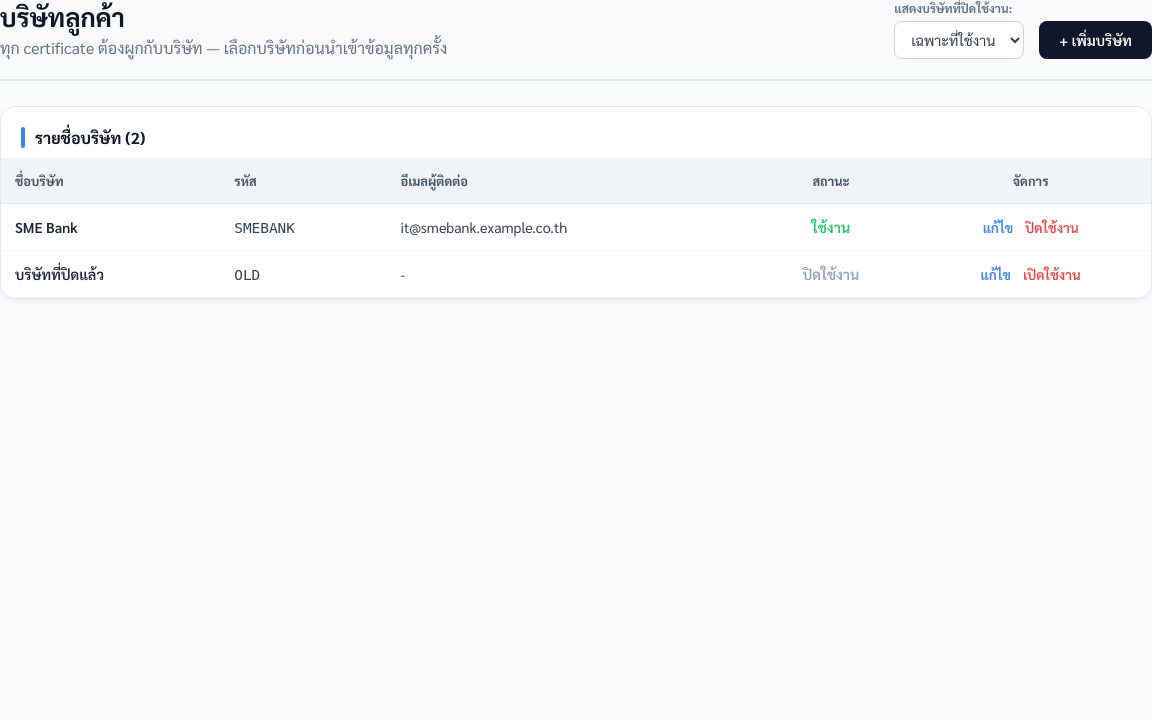
Test: CompaniesPage › รหัสซ้ำ → แสดงข้อความจาก api บนฟอร์ม (ไม่ปิดฟอร์มทิ้ง)
Click the button "+ เพิ่มบริษัท" at (1096, 40), box x1=1039 y1=21 x2=1151 y2=59
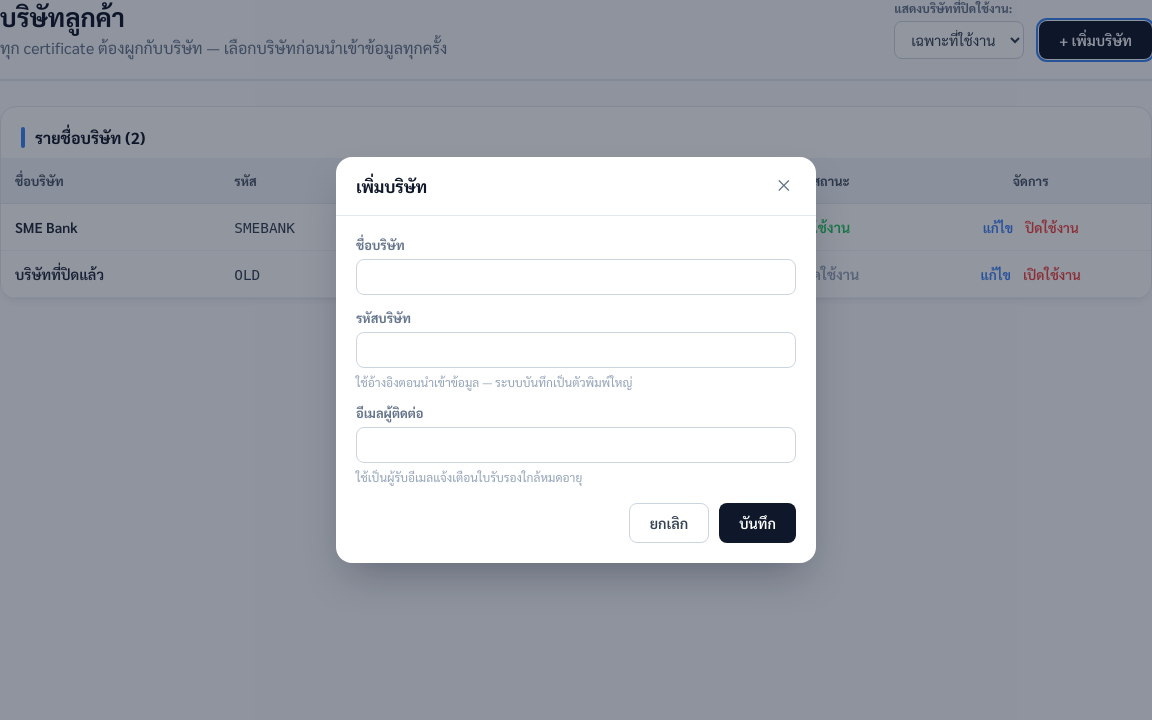
Type "ซ้ำ" into the field labelled "ชื่อบริษัท" at (576, 277), box x1=356 y1=259 x2=796 y2=295
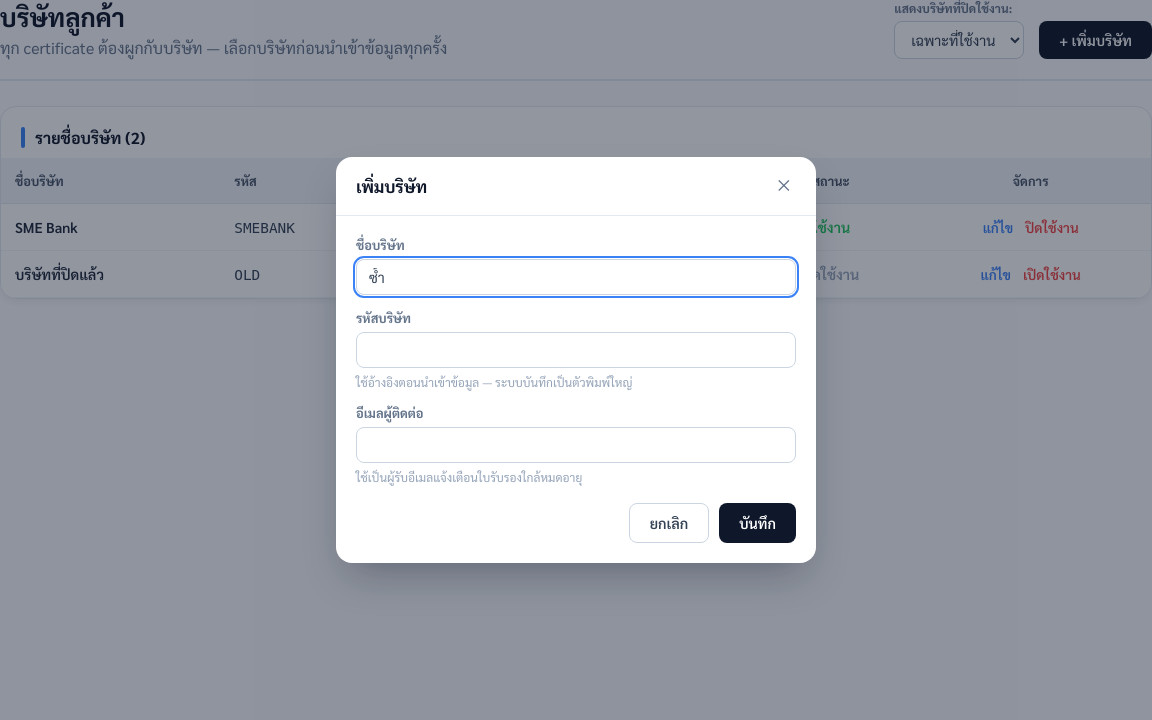
Type "SMEBANK" into the field labelled "รหัสบริษัท" at (576, 350), box x1=356 y1=332 x2=796 y2=368
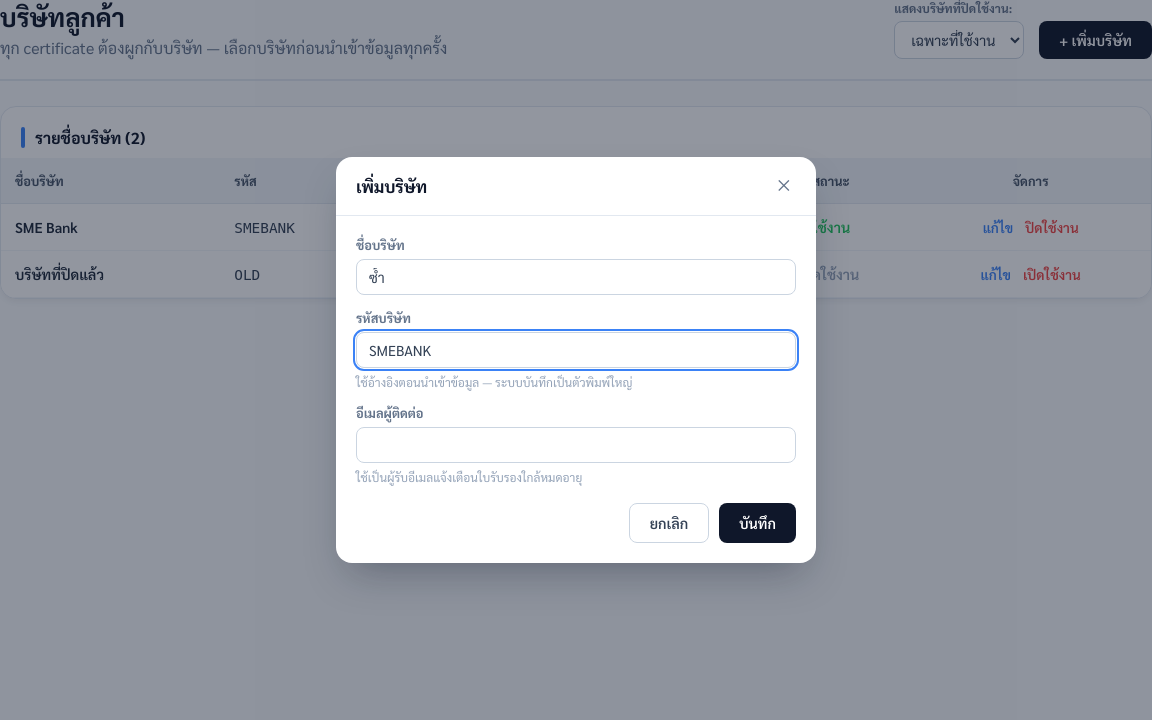
Click the button "บันทึก" at (758, 523), box x1=719 y1=503 x2=796 y2=543
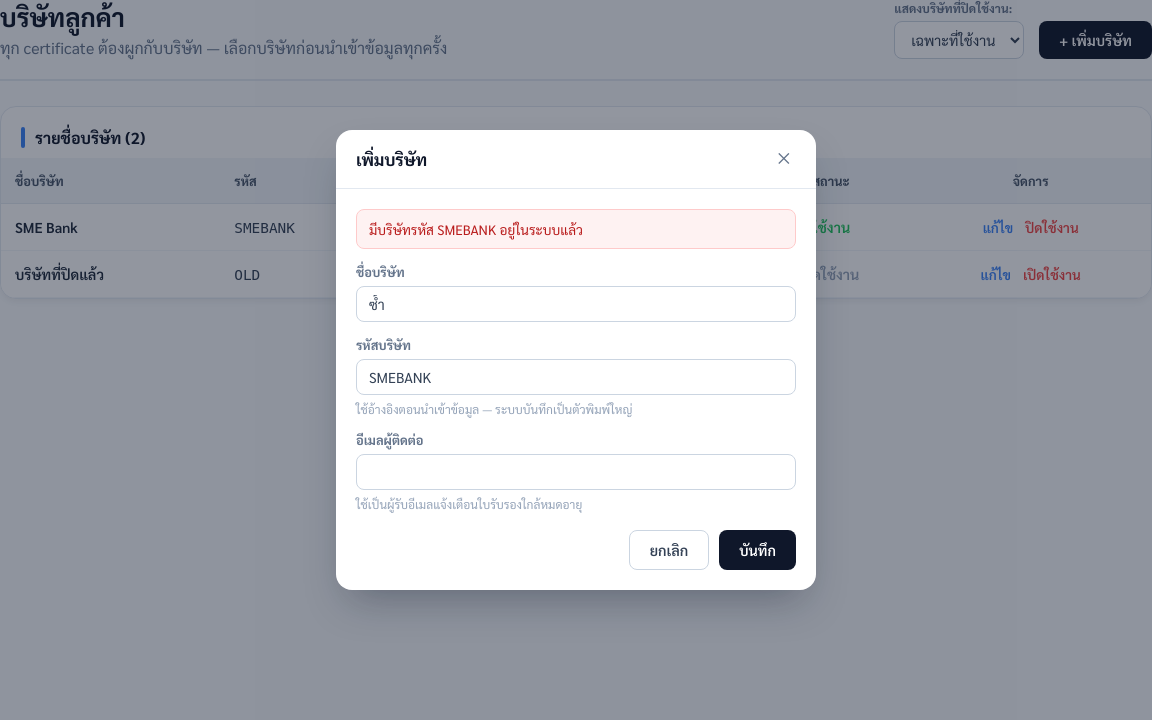
Expected: the text "มีบริษัทรหัส SMEBANK อยู่ในระบบแล้ว" is shown, x1=356 y1=209 x2=796 y2=249
